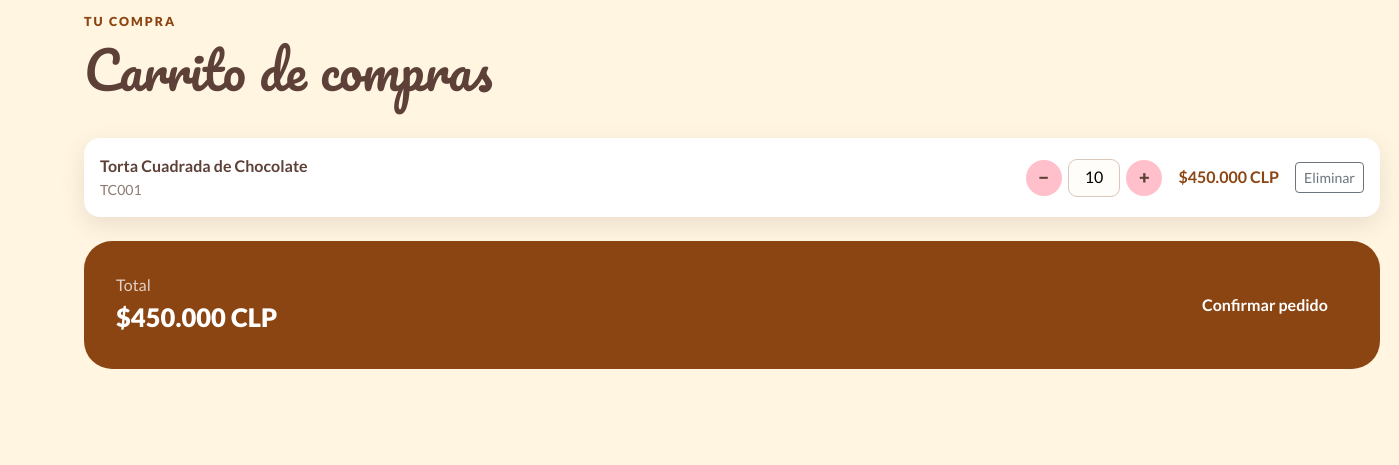
Test: Página del Carrito › no permite superar el máximo de 10 unidades y avisa al usuario
Click the button "+". click: (1144, 178)
box: [1126,160,1162,196]
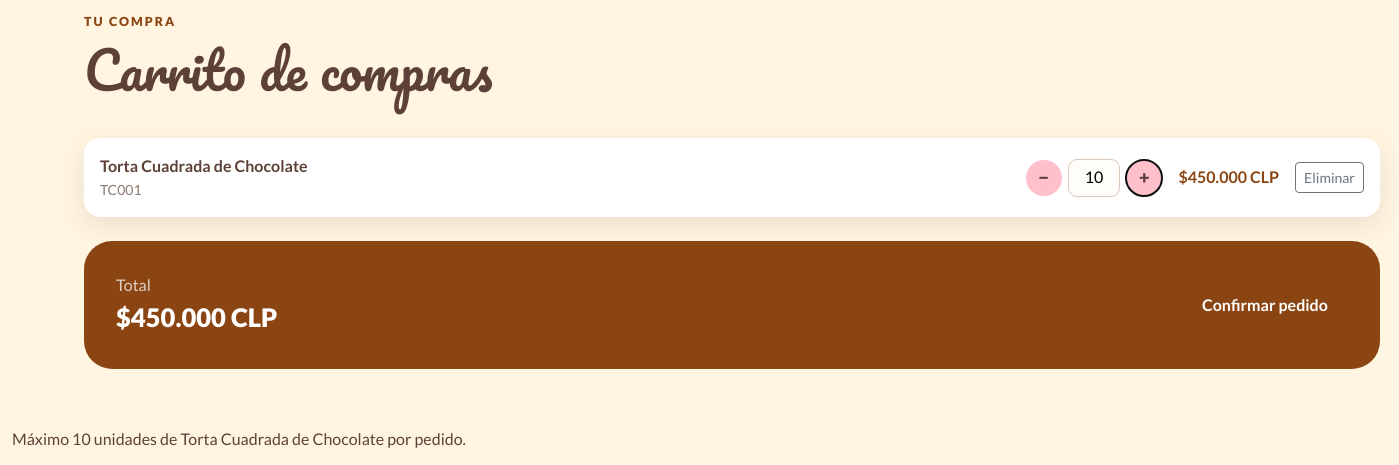
Expected: the text with test id "aviso" shows "Máximo 10 unidades", [12,429,466,448]
